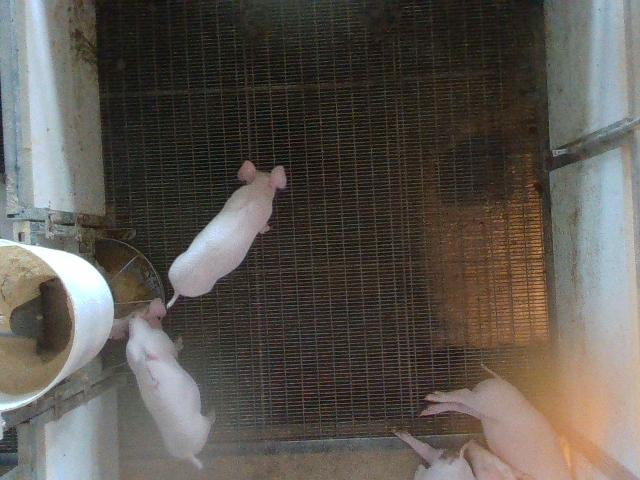pig-5: (110, 299, 215, 468)
